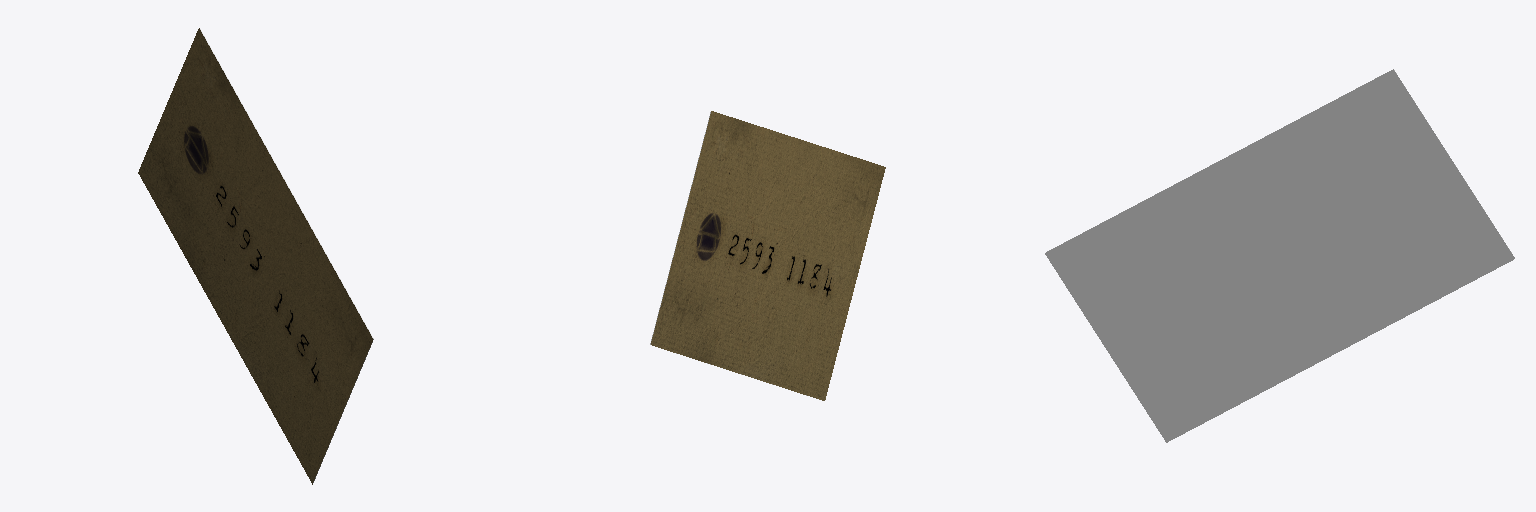
3 renders of one model, left to right at view 1: azimuth 30°, elevation 25°; view 2: azimuth 150°, elevation 25°; view 3: azimuth 270°, elevation 25°, orthographic.
Visible parts, largest first — view 1: Cube_Cube.001; view 2: Cube_Cube.001; view 3: Cube_Cube.001.
Part boxes in pixels (x1,y1,x2,y2): Cube_Cube.001: (138, 28, 373, 484); Cube_Cube.001: (650, 111, 885, 400); Cube_Cube.001: (1045, 69, 1514, 442).
Size of the model in its own units: 0.007 by 5.11 by 5.83.
6 materials, 1 textured.